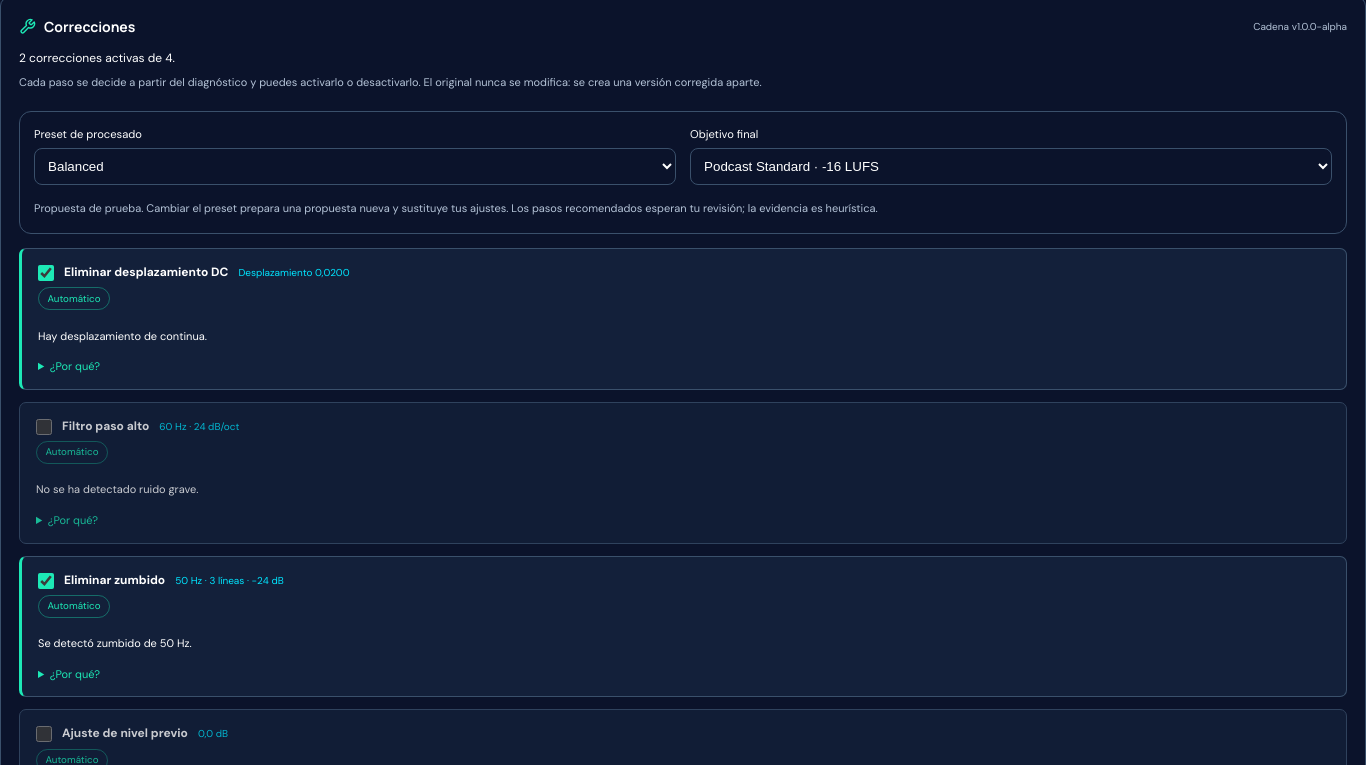
Test: sends the user-adjusted plan and shows the before/after comparison
Click the checkbox labelled "Filtro paso alto 60 Hz · 24 dB/oct" at (44, 427), box [36, 419, 52, 435]
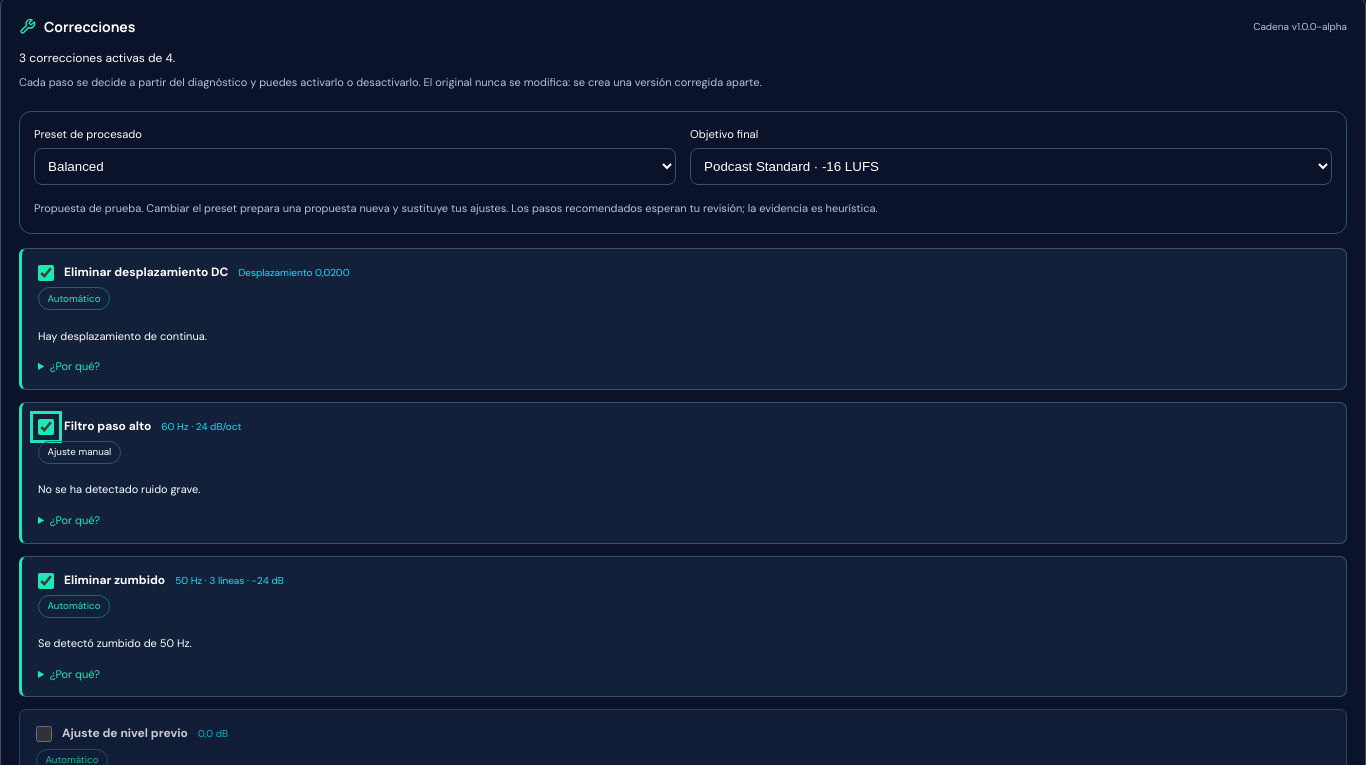
Click the checkbox labelled "Eliminar zumbido 50 Hz · 3 líneas · −24 dB" at (46, 581), box [38, 573, 54, 589]
(page scrolled)
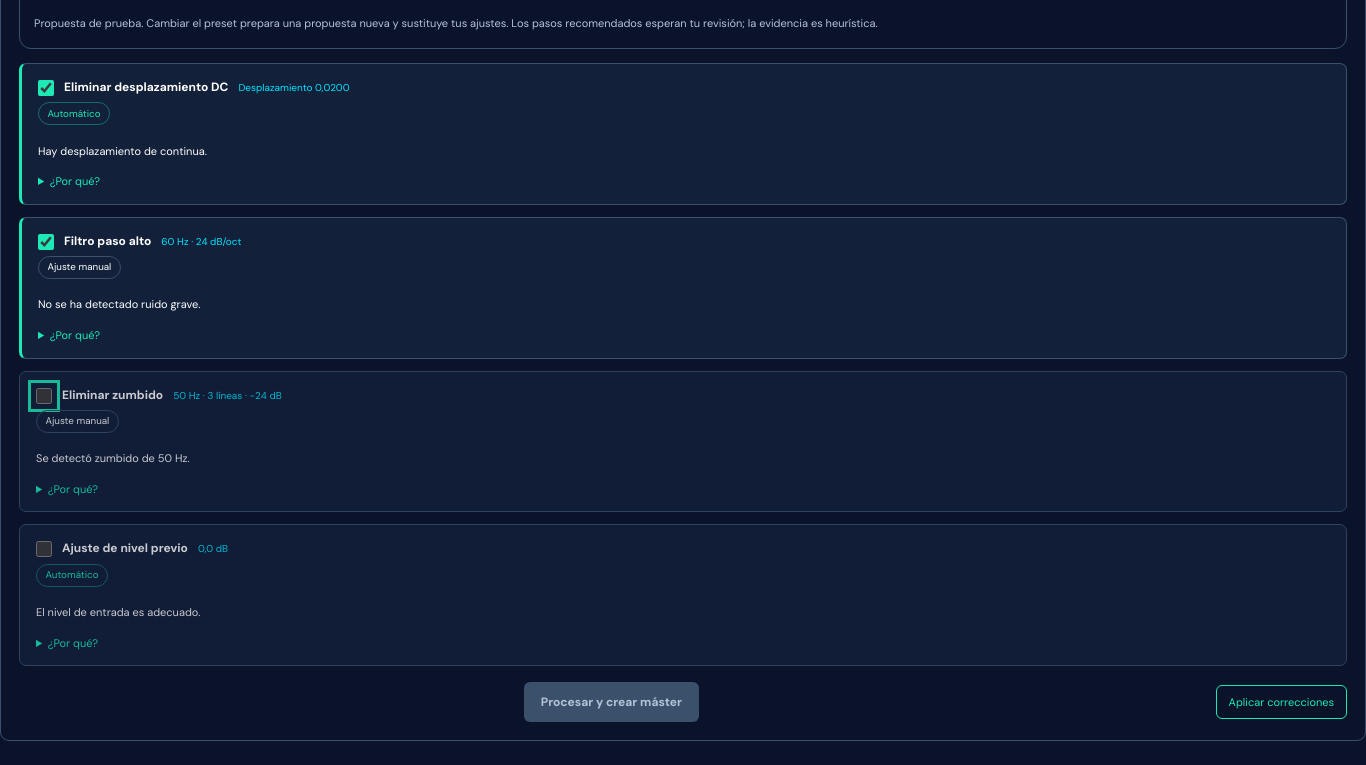
Click the button "Aplicar correcciones" at (1281, 702), box [1216, 685, 1347, 719]
(page scrolled)
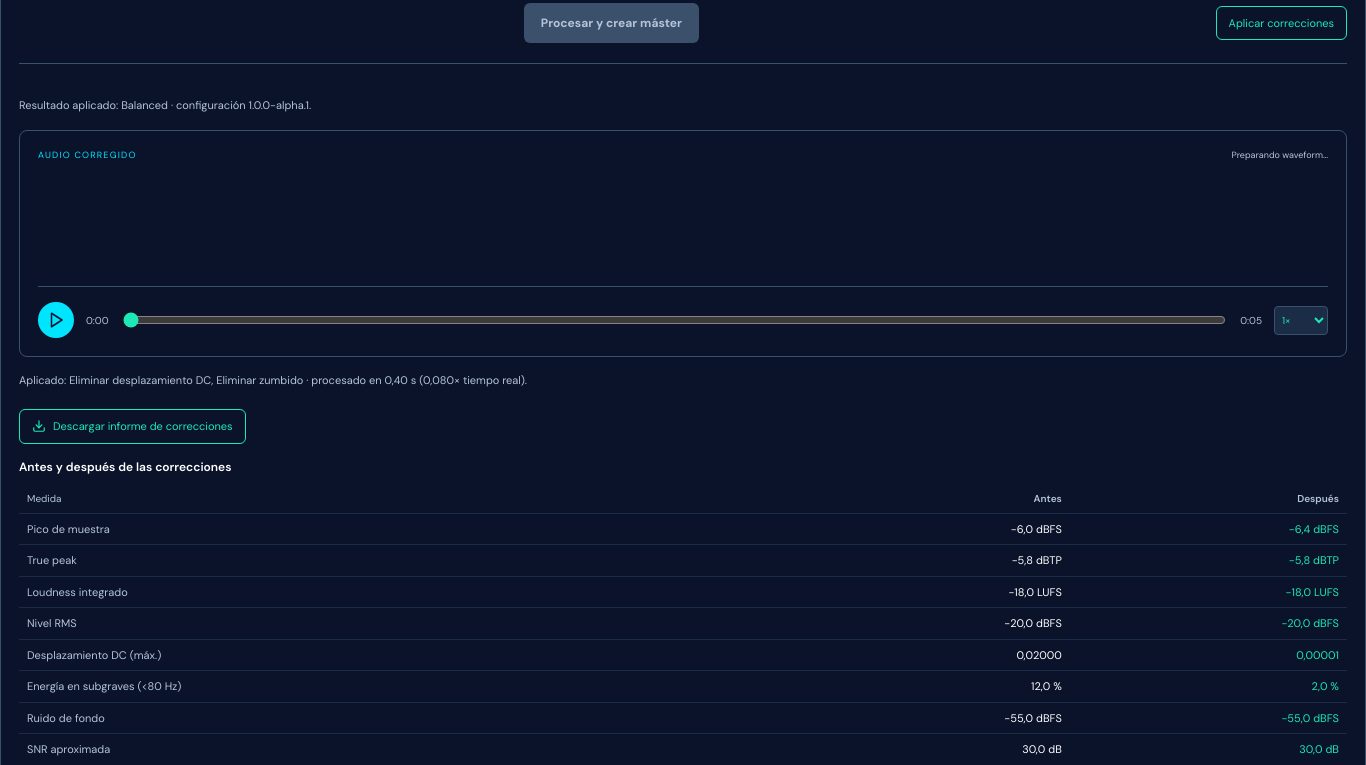
Check: the row "Desplazamiento DC (máx.) 0,02000 0,00001" is shown, box [19, 639, 1347, 671]
Check: the element named "Reproductor de audio corregido" is shown, box [19, 130, 1347, 357]
Check: the text "Aplicado: Eliminar desplazamiento DC, Eliminar zumbido · procesado en 0,40 s" is shown, box [19, 373, 527, 387]
